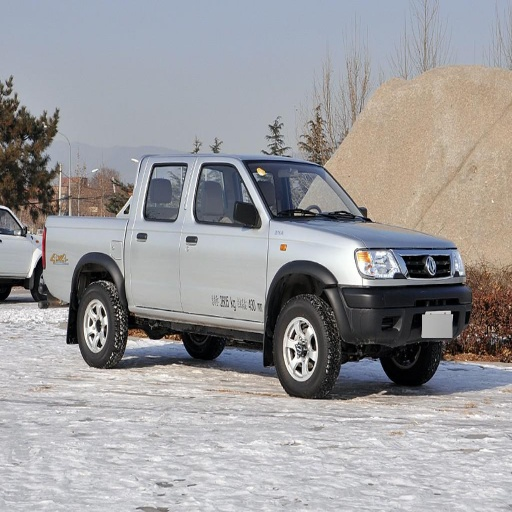back_right_door: (129, 163, 198, 309)
front_bumper: (337, 249, 470, 347)
front_right_door: (182, 163, 266, 320)
front_right_light: (355, 248, 408, 281)
trunk: (47, 224, 125, 303)
